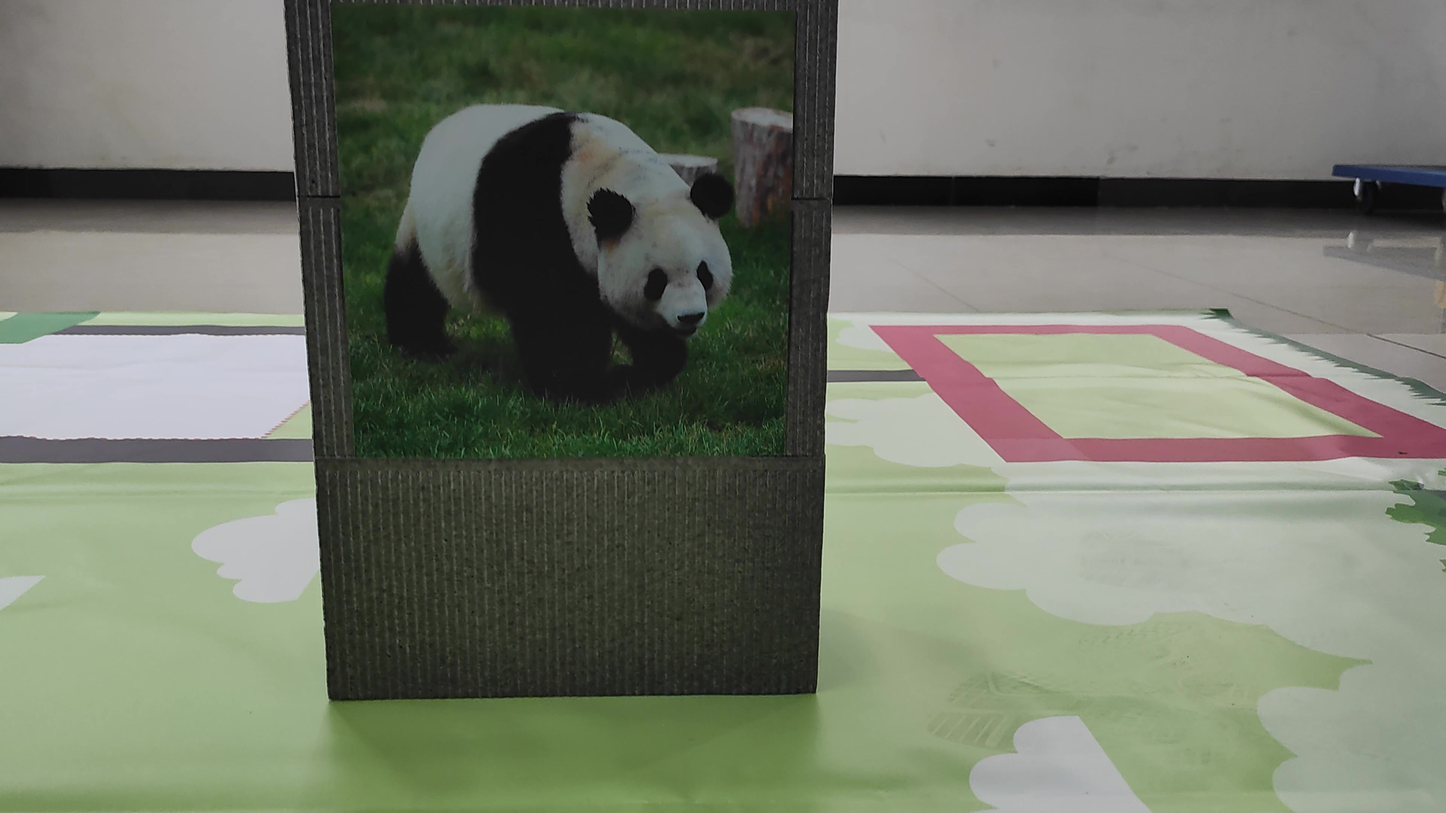panda: (349, 51, 772, 415)
